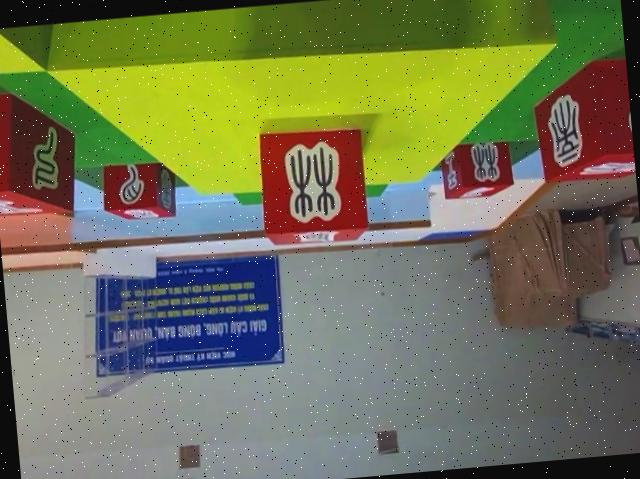R2 Fake: (250, 120, 372, 250), (530, 52, 636, 186), (0, 82, 83, 221), (95, 155, 179, 224), (437, 136, 518, 202)
